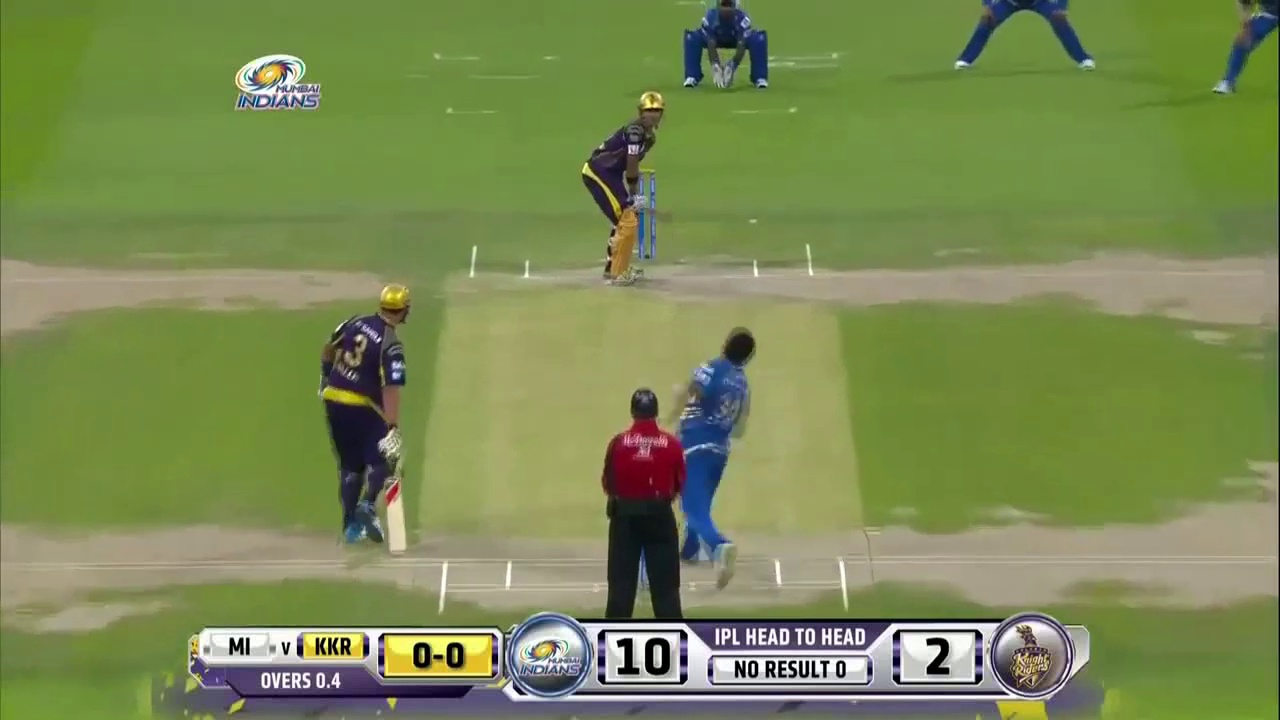bat: (385, 479, 409, 553)
